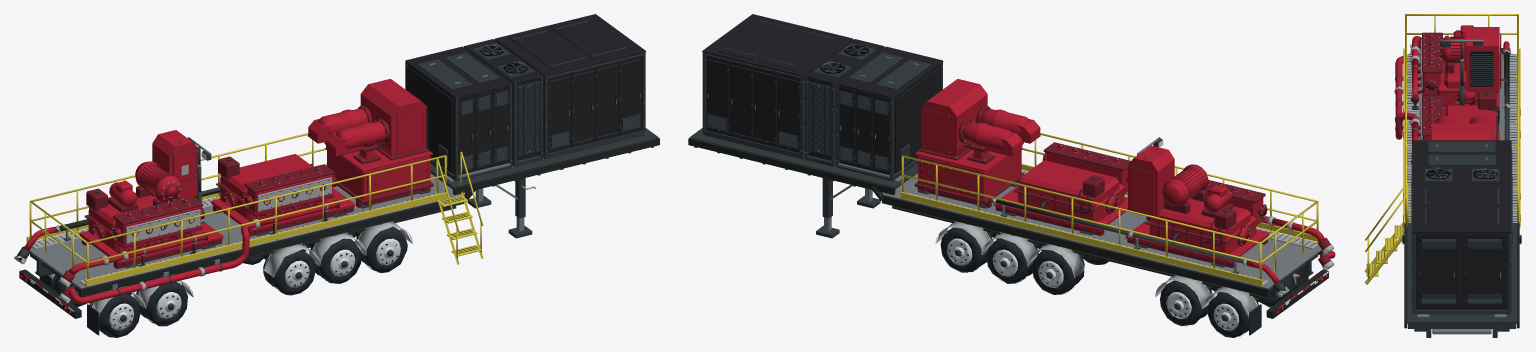
File: efracpump.phone.glb
The picture shows the model from 3 angles, left to right: view 1: azimuth 30°, elevation 25°; view 2: azimuth 150°, elevation 25°; view 3: azimuth 270°, elevation 25°; orthographic projection.
Visible parts, largest first — view 1: E_Fleet_Drive_cabinets__cabinet_138, E_Fleet_Electrical_cabinets__cabinet_126, E_Fleet_Work_platform__yellow_27, E_Fleet_Trailer_frame__black_2, E_Fleet_Running_gear__rubber_11, E_Fleet_Electrical_cabinets__darksteel_127, E_Fleet_Trailer_frame__steel_3, E_Fleet_Auxiliary_service_module_Upper_shroud__red_155, E_Fleet_Auxiliary_service_module_Enclosure__red_148, E_Fleet_Cooling_module__darksteel_133, E_Fleet_Running_gear__chrome_12, E_Fleet_Drive_cabinets__darksteel_139 (+31 smaller); view 2: E_Fleet_Drive_cabinets__cabinet_138, E_Fleet_Work_platform__yellow_27, E_Fleet_Electrical_cabinets__cabinet_126, E_Fleet_Trailer_frame__black_2, E_Fleet_Running_gear__rubber_11, E_Fleet_Trailer_frame__steel_3, E_Fleet_Electrical_cabinets__darksteel_127, E_Fleet_Pump_2_Powerend__red_110, E_Fleet_Auxiliary_service_module_Upper_shroud__red_155, E_Fleet_Auxiliary_service_module_Enclosure__red_148, E_Fleet_Running_gear__chrome_12, E_Fleet_Cooling_module__darksteel_133 (+26 smaller); view 3: E_Fleet_Drive_cabinets__cabinet_138, E_Fleet_Drive_cabinets__darksteel_139, E_Fleet_Trailer_frame__darksteel_1, E_Fleet_Work_platform__yellow_27, E_Fleet_Work_platform__silver_25, E_Fleet_Electrical_cabinets__darksteel_127, E_Fleet_Electrical_cabinets__cabinet_126, E_Fleet_Pump_1_Cooling_cover__red_93, E_Fleet_Access_stair__yellow_29, E_Fleet_Drive_cabinets__grille_142, E_Fleet_Auxiliary_service_module_Upper_shroud__red_155, E_Fleet_Cooling_module__cabinet_132 (+27 smaller).
Part boxes in pixels (bbox=[...]): E_Fleet_Drive_cabinets__cabinet_138: bbox=[494, 14, 645, 153]; E_Fleet_Electrical_cabinets__cabinet_126: bbox=[405, 46, 512, 175]; E_Fleet_Work_platform__yellow_27: bbox=[26, 133, 447, 286]; E_Fleet_Trailer_frame__black_2: bbox=[22, 137, 659, 301]; E_Fleet_Running_gear__rubber_11: bbox=[52, 227, 407, 337]; E_Fleet_Electrical_cabinets__darksteel_127: bbox=[405, 52, 512, 181]; E_Fleet_Trailer_frame__steel_3: bbox=[29, 173, 461, 288]; E_Fleet_Auxiliary_service_module_Upper_shroud__red_155: bbox=[360, 79, 426, 156]; E_Fleet_Auxiliary_service_module_Enclosure__red_148: bbox=[324, 142, 432, 199]; E_Fleet_Cooling_module__darksteel_133: bbox=[472, 43, 543, 166]; E_Fleet_Running_gear__chrome_12: bbox=[52, 221, 412, 329]; E_Fleet_Drive_cabinets__darksteel_139: bbox=[513, 20, 645, 159]; E_Fleet_Drive_cabinets__cabinet_138: bbox=[702, 14, 853, 153]; E_Fleet_Work_platform__yellow_27: bbox=[899, 133, 1318, 286]; E_Fleet_Electrical_cabinets__cabinet_126: bbox=[835, 46, 943, 175]; E_Fleet_Trailer_frame__black_2: bbox=[688, 137, 1322, 301]; E_Fleet_Running_gear__rubber_11: bbox=[940, 227, 1296, 337]; E_Fleet_Trailer_frame__steel_3: bbox=[884, 173, 1321, 288]; E_Fleet_Electrical_cabinets__darksteel_127: bbox=[836, 52, 942, 181]; E_Fleet_Pump_2_Powerend__red_110: bbox=[1018, 160, 1124, 221]; E_Fleet_Auxiliary_service_module_Upper_shroud__red_155: bbox=[921, 79, 987, 157]; E_Fleet_Auxiliary_service_module_Enclosure__red_148: bbox=[915, 142, 1023, 199]; E_Fleet_Running_gear__chrome_12: bbox=[935, 221, 1296, 330]; E_Fleet_Cooling_module__darksteel_133: bbox=[805, 43, 875, 166]; E_Fleet_Drive_cabinets__cabinet_138: bbox=[1412, 183, 1511, 309]; E_Fleet_Drive_cabinets__darksteel_139: bbox=[1411, 184, 1512, 314]; E_Fleet_Trailer_frame__darksteel_1: bbox=[1407, 223, 1516, 337]; E_Fleet_Work_platform__yellow_27: bbox=[1403, 14, 1520, 227]; E_Fleet_Work_platform__silver_25: bbox=[1407, 55, 1516, 222]; E_Fleet_Electrical_cabinets__darksteel_127: bbox=[1411, 141, 1512, 175]; E_Fleet_Electrical_cabinets__cabinet_126: bbox=[1412, 140, 1511, 168]; E_Fleet_Pump_1_Cooling_cover__red_93: bbox=[1464, 27, 1501, 92]; E_Fleet_Access_stair__yellow_29: bbox=[1364, 182, 1410, 284]; E_Fleet_Drive_cabinets__grille_142: bbox=[1420, 238, 1503, 303]; E_Fleet_Auxiliary_service_module_Upper_shroud__red_155: bbox=[1430, 123, 1492, 140]; E_Fleet_Cooling_module__cabinet_132: bbox=[1411, 168, 1512, 250].
Size of the model in its own units: 16.24 by 4.19 by 3.8.
